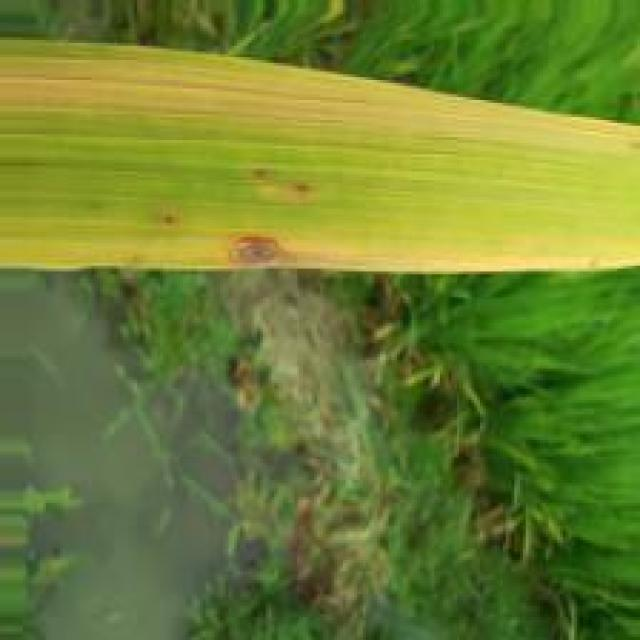Narrow_Brown_Leaf_Spot: (0, 56, 640, 152), (0, 219, 640, 271), (245, 183, 317, 204), (158, 214, 181, 230), (250, 167, 276, 181)
